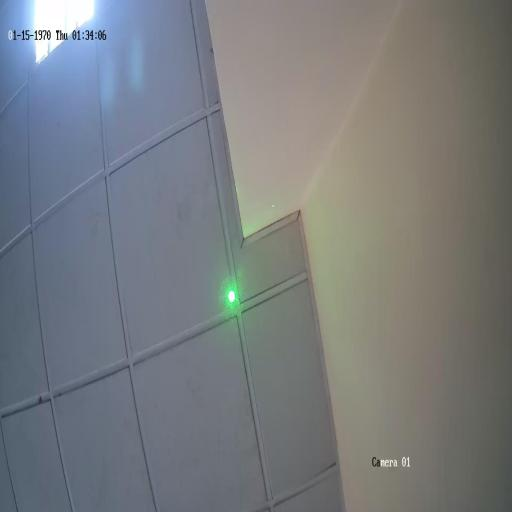laser: (220, 272, 242, 314)
